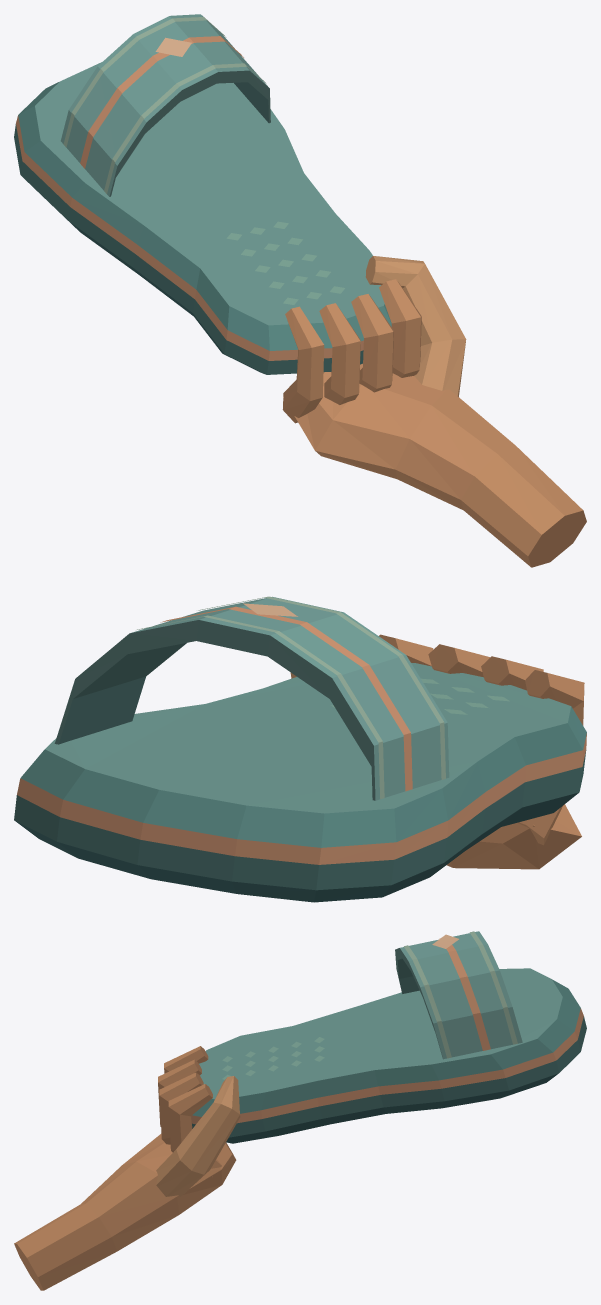
File: slipper.glb
The picture shows the model from 3 angles, top to bottom: view 1: azimuth 30°, elevation 25°; view 2: azimuth 150°, elevation 25°; view 3: azimuth 270°, elevation 25°; orthographic projection. The views are drawn at different scales.
Parts seen in each view (by area): view 1: right_wrist; view 2: right_wrist; view 3: right_wrist.
Boxes of the visible parts, <box> form: right_wrist: <box>14,14,586,567</box>; right_wrist: <box>14,596,586,902</box>; right_wrist: <box>14,931,586,1290</box>.
Size of the model in its own units: 0.1679 by 0.2132 by 0.3648.
